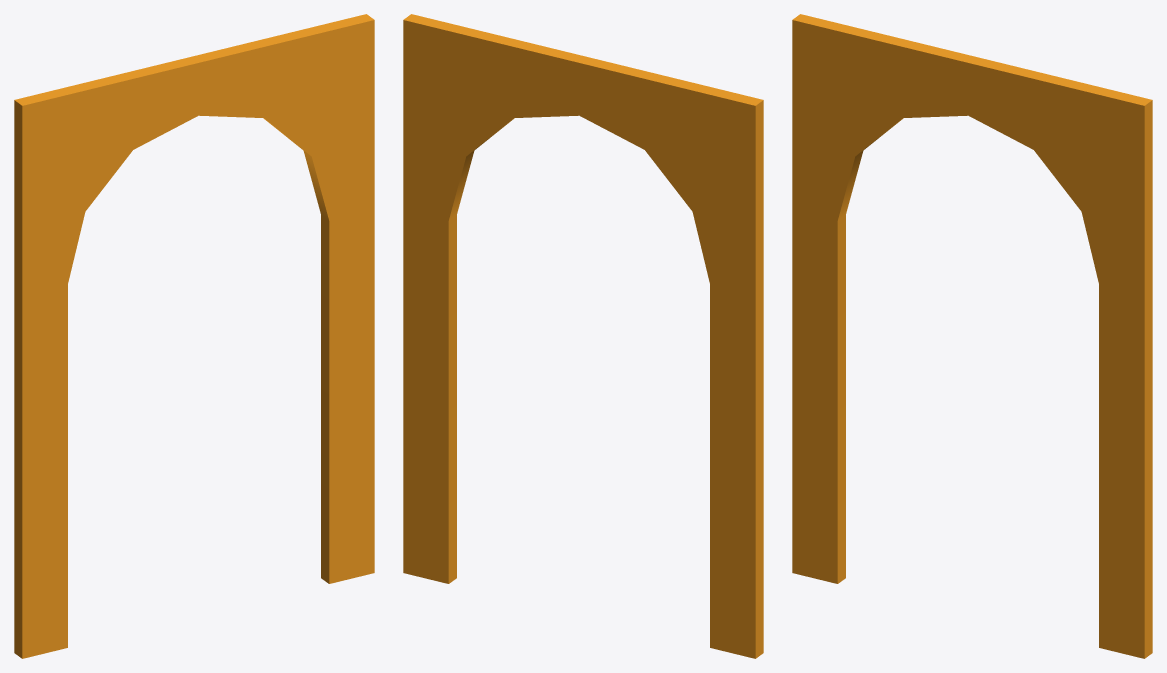
File: SM_Buildings_WallArch_2x3_01.fbx
The picture shows the model from 3 angles, left to right: view 1: azimuth 30°, elevation 25°; view 2: azimuth 150°, elevation 25°; view 3: azimuth 330°, elevation 25°; orthographic projection.
Visible parts, largest first — view 1: SM_Buildings_WallArch_2x3_01; view 2: SM_Buildings_WallArch_2x3_01; view 3: SM_Buildings_WallArch_2x3_01.
Part boxes in pixels (x1,y1,x2,y2): SM_Buildings_WallArch_2x3_01: (14, 14, 374, 658); SM_Buildings_WallArch_2x3_01: (403, 14, 763, 658); SM_Buildings_WallArch_2x3_01: (792, 14, 1152, 658).
Bounding box in the file's own units: 200 × 300 × 8.
